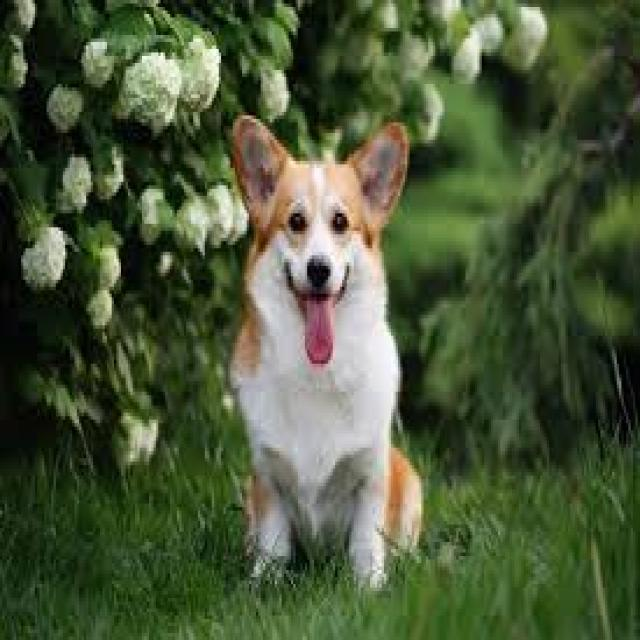CORGI: (202, 98, 440, 605)
